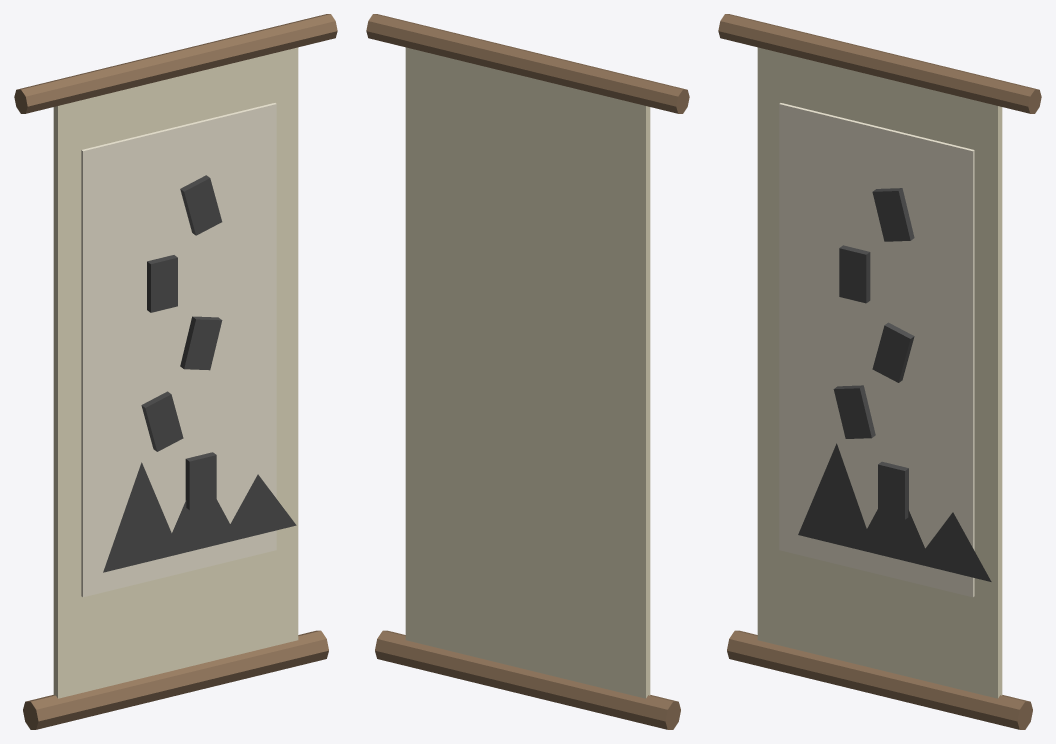
File: cn_scroll.glb
3 renders of one model, left to right at view 1: azimuth 30°, elevation 25°; view 2: azimuth 150°, elevation 25°; view 3: azimuth 330°, elevation 25°, orthographic.
Visible parts, largest first — view 1: cn_scroll; view 2: cn_scroll; view 3: cn_scroll.
Boxes of the visible parts, bbox=[...] form: cn_scroll: bbox=[14, 14, 337, 729]; cn_scroll: bbox=[366, 14, 689, 729]; cn_scroll: bbox=[718, 14, 1041, 729].
Bounding box in the file's own units: 0.8 × 1.59 × 0.07.
